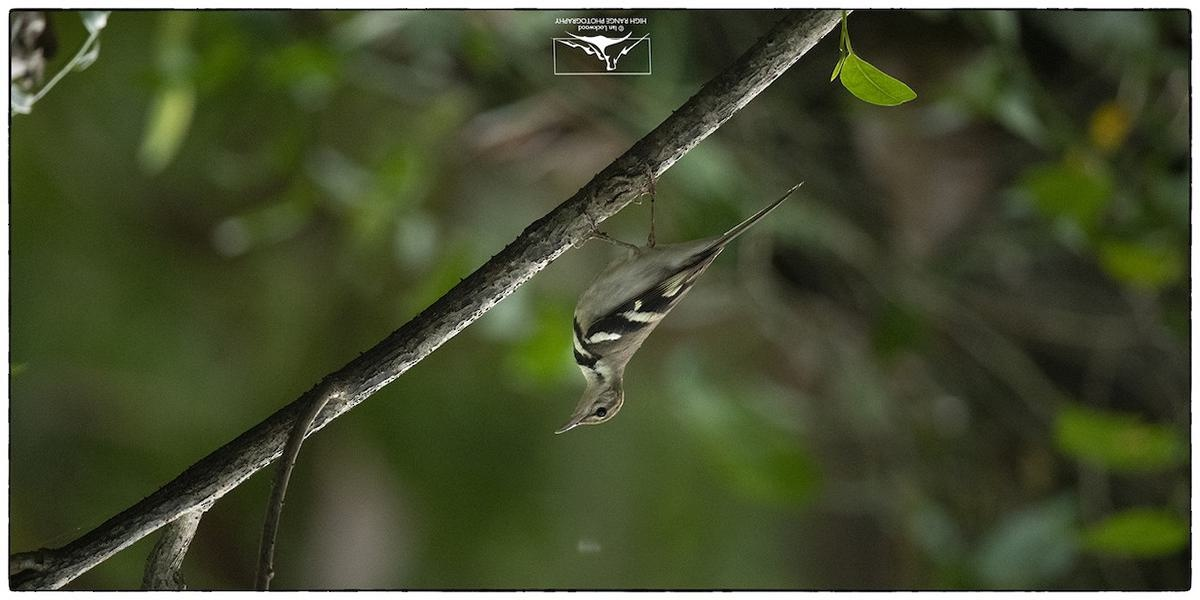wagtail: (549, 122, 807, 463)
